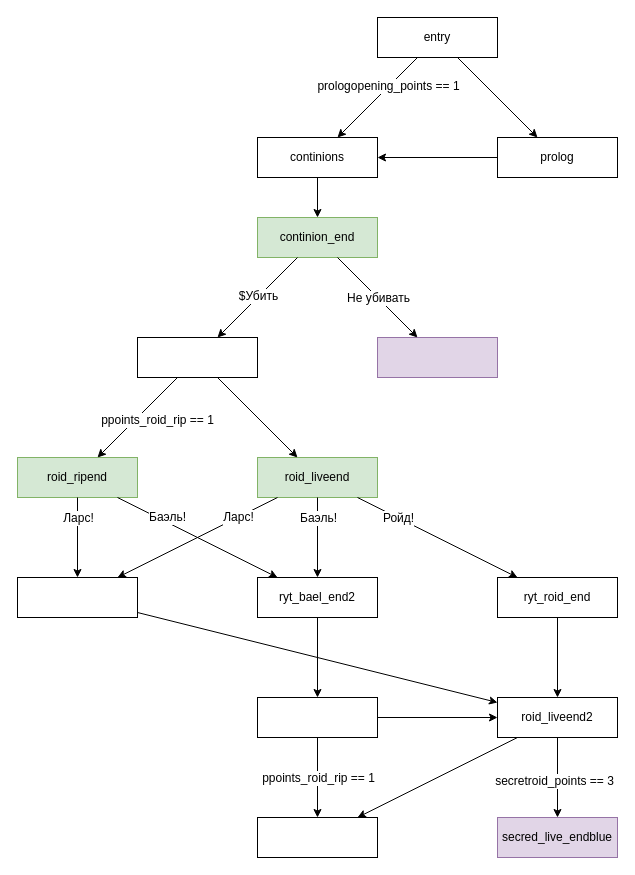
The diagram is 635 pixels wide and 875 high, and some of its shapes have lost their labels. Here are the shapes that lost their labels. From the top down, the centre of each, then its label:
(197,357): ryt_kill
(437,357): ryt_deatch7
(77,597): ryt_lars_end
(317,717): ryt_roidrip_end
(317,837): cont
